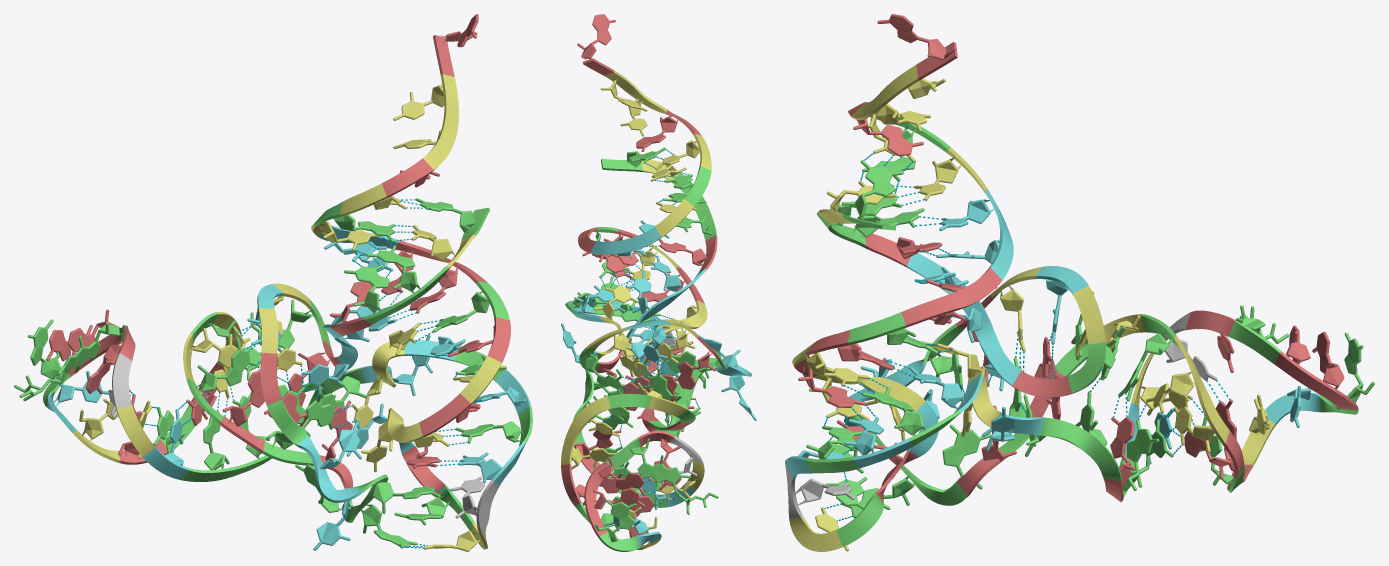
The model's file is Lop10_Nucleic acid_Tab3_transfer_rna_trna.glb.
3 renders of one model, left to right at view 1: azimuth 30°, elevation 25°; view 2: azimuth 150°, elevation 25°; view 3: azimuth 270°, elevation 25°, orthographic. The views are drawn at different scales.
Visible parts, largest first — view 1: ribbons_3, rings_5, bonds_0, atoms_6, pbonds_7, 4tna # ribbon tethers_4; view 2: ribbons_3, rings_5, bonds_0, atoms_6, pbonds_7, 4tna # ribbon tethers_4; view 3: ribbons_3, bonds_0, rings_5, atoms_6, pbonds_7.
Part boxes in pixels (x1,y1,x2,y2): ribbons_3: (43,35,532,549); rings_5: (33,15,520,549); bonds_0: (15,14,524,551); atoms_6: (14,14,526,551); pbonds_7: (129,199,481,548); 4tna # ribbon tethers_4: (52,35,524,542); ribbons_3: (561,58,751,551); rings_5: (565,15,749,541); bonds_0: (561,14,756,542); atoms_6: (561,14,756,541); pbonds_7: (595,148,698,506); 4tna # ribbon tethers_4: (571,56,737,542); ribbons_3: (785,42,1358,551); bonds_0: (798,14,1374,550); rings_5: (802,17,1362,530); atoms_6: (798,14,1374,551); pbonds_7: (824,152,1230,521).
Size of the model in its own units: 1.49 by 2.13 by 2.
